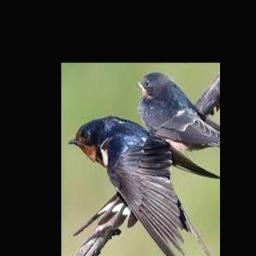Swallow: (68, 116, 220, 256), (138, 71, 220, 145)
